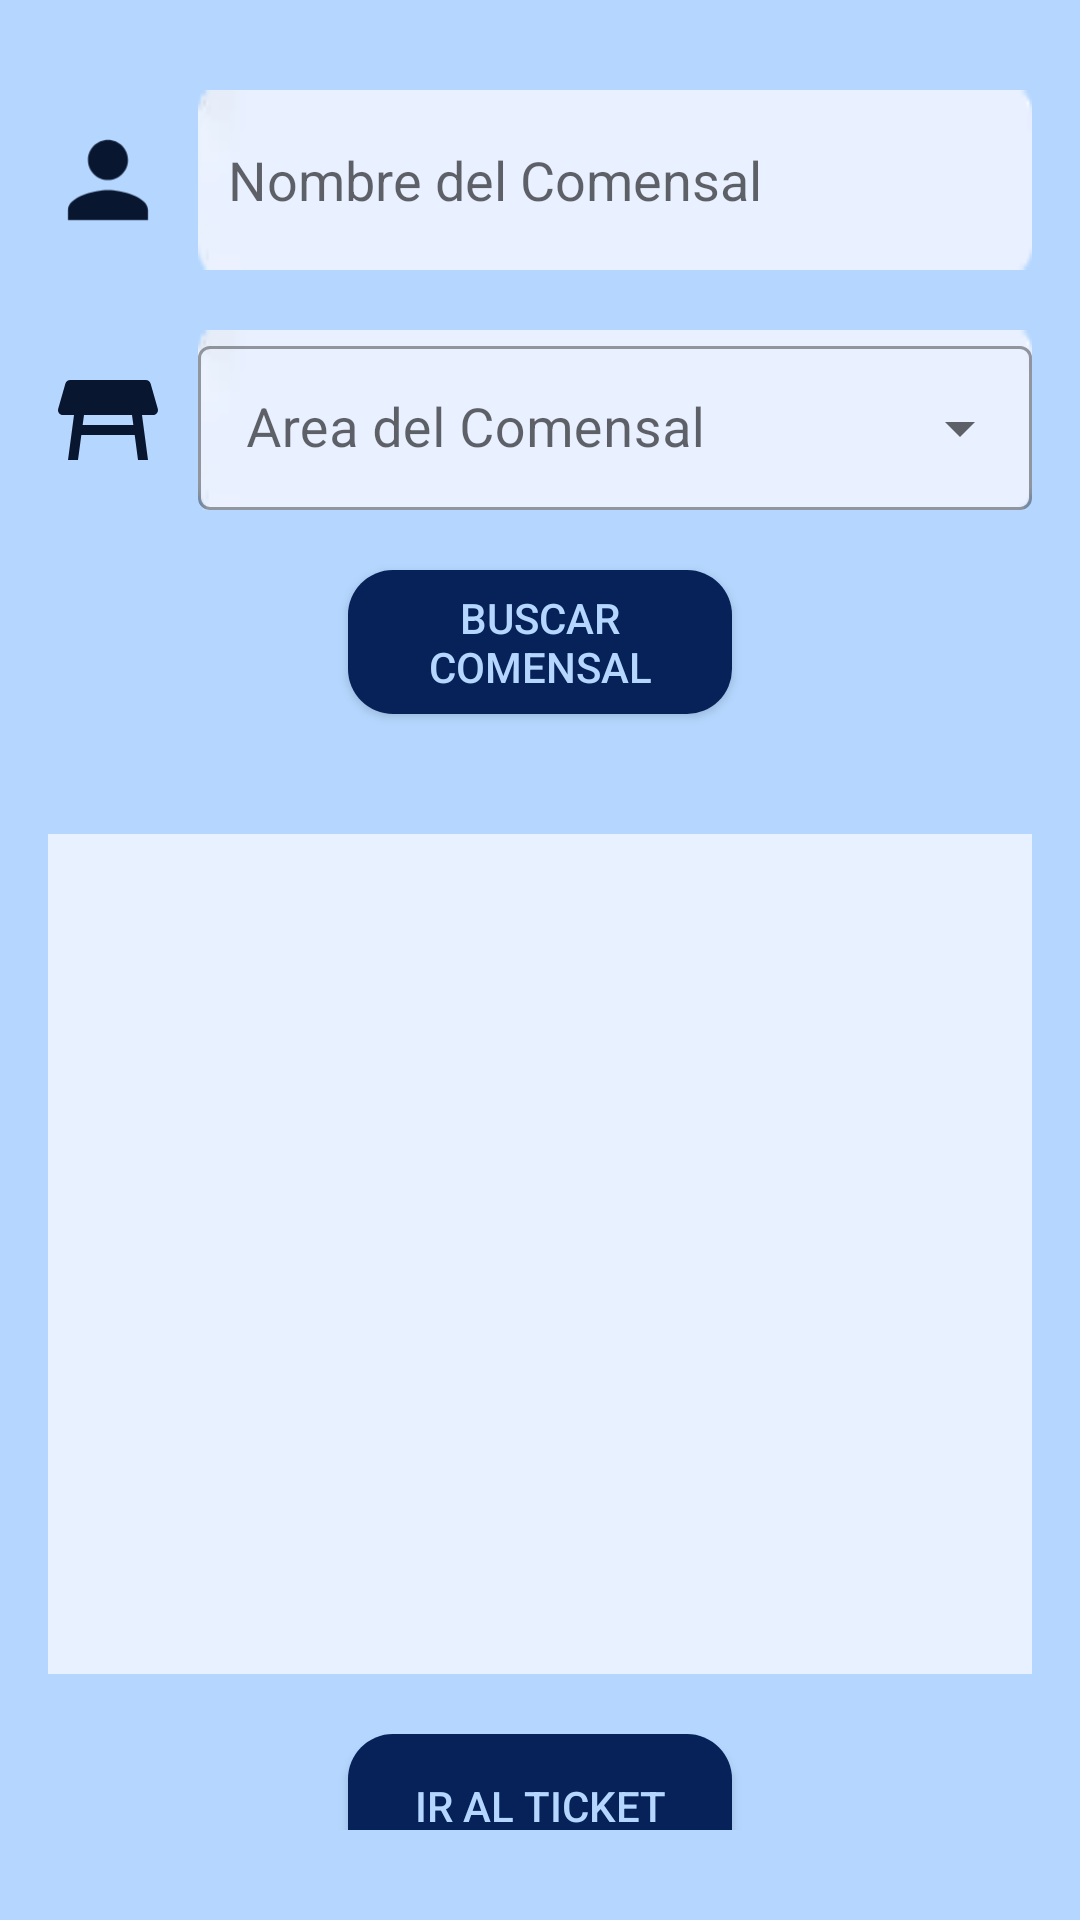

Named icons in this screenshot (1080x1920) and their bounding boxes, (left=x1, top=y1, right=x2, bottom=y2):
area comedor: (left=58, top=380, right=158, bottom=460)
persona: (left=67, top=139, right=149, bottom=221)
